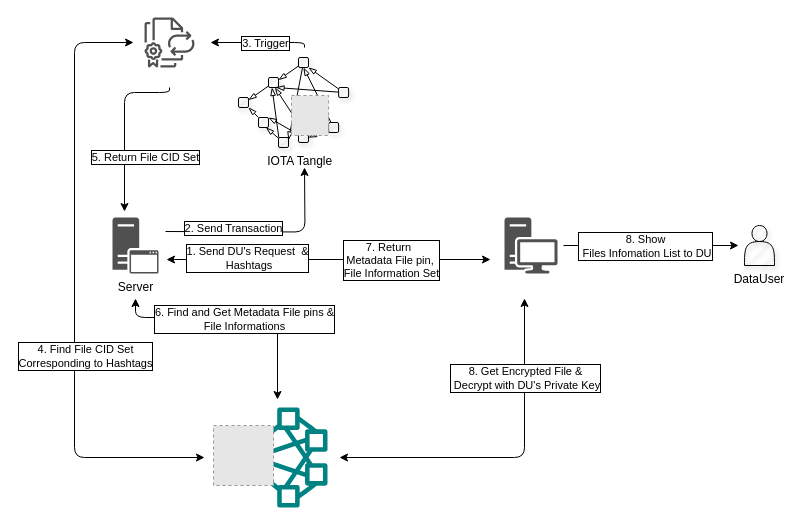
This 802x524 diagram has some shape labels left out. Grey dashed boxes stand in for pictures. The shapes that lost their labels are listed below. From the top down, each one's centre as x and y in pixels, then its label:
the point at 169,42: IOTA SmartContract
the point at 530,245: Data User's Computer
